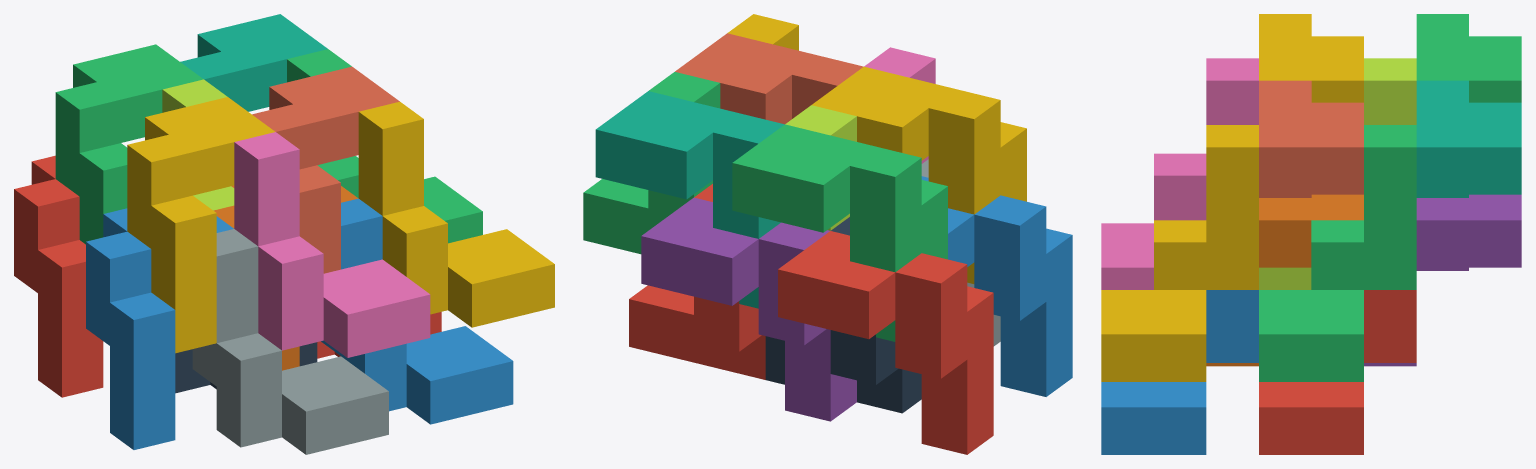
The model's file is tiling.obj.
3 renders of one model, left to right at view 1: azimuth 30°, elevation 25°; view 2: azimuth 150°, elevation 25°; view 3: azimuth 270°, elevation 25°, orthographic. The views are drawn at different scales.
Visible parts, largest first — view 1: copy_2_domain_4, copy_2_domain_2, copy_2_domain_8, copy_1_domain_4, copy_1_domain_2, copy_1_domain_3, copy_1_domain_1, copy_2_domain_6, copy_1_domain_8, copy_1_domain_7, copy_2_domain_7, copy_2_domain_3 (+2 smaller); view 2: copy_1_domain_1, copy_1_domain_3, copy_1_domain_5, copy_1_domain_2, copy_1_domain_4, copy_1_domain_7, copy_1_domain_8, copy_2_domain_5, copy_2_domain_7, copy_2_domain_1, copy_2_domain_3, copy_2_domain_4 (+1 smaller); view 3: copy_2_domain_8, copy_2_domain_7, copy_2_domain_6, copy_2_domain_5, copy_1_domain_7, copy_1_domain_8, copy_2_domain_4, copy_1_domain_5, copy_1_domain_3, copy_1_domain_4, copy_1_domain_6, copy_2_domain_3.
Boxes of the visible parts, <box> form: copy_2_domain_4: <box>234,132,430,357</box>; copy_2_domain_2: <box>192,229,388,454</box>; copy_2_domain_8: <box>358,101,554,327</box>; copy_1_domain_4: <box>127,97,275,353</box>; copy_1_domain_2: <box>86,208,233,449</box>; copy_1_domain_3: <box>55,44,203,244</box>; copy_1_domain_1: <box>14,155,103,397</box>; copy_2_domain_6: <box>321,198,513,424</box>; copy_1_domain_8: <box>252,66,399,273</box>; copy_1_domain_7: <box>180,14,327,111</box>; copy_2_domain_7: <box>287,49,482,243</box>; copy_2_domain_3: <box>162,79,234,210</box>; copy_1_domain_1: <box>778,231,993,454</box>; copy_1_domain_3: <box>732,124,947,341</box>; copy_1_domain_5: <box>641,197,856,421</box>; copy_1_domain_2: <box>921,176,1072,396</box>; copy_1_domain_4: <box>811,66,1026,283</box>; copy_1_domain_7: <box>595,91,784,308</box>; copy_1_domain_8: <box>675,33,863,124</box>; copy_2_domain_5: <box>629,184,765,379</box>; copy_2_domain_7: <box>583,72,720,254</box>; copy_2_domain_1: <box>765,217,921,413</box>; copy_2_domain_3: <box>785,105,856,230</box>; copy_2_domain_4: <box>864,47,935,163</box>; copy_2_domain_8: <box>1101,125,1258,381</box>; copy_2_domain_7: <box>1259,125,1416,381</box>; copy_2_domain_6: <box>1101,290,1258,454</box>; copy_2_domain_5: <box>1259,290,1416,454</box>; copy_1_domain_7: <box>1416,80,1521,197</box>; copy_1_domain_8: <box>1259,80,1363,197</box>; copy_2_domain_4: <box>1101,58,1258,289</box>; copy_1_domain_5: <box>1364,194,1521,366</box>; copy_1_domain_3: <box>1416,14,1521,102</box>; copy_1_domain_4: <box>1259,14,1363,102</box>; copy_1_domain_6: <box>1206,194,1363,366</box>; copy_2_domain_3: <box>1259,58,1416,289</box>.
Bounding box in the file's own units: 9 × 6 × 8.
